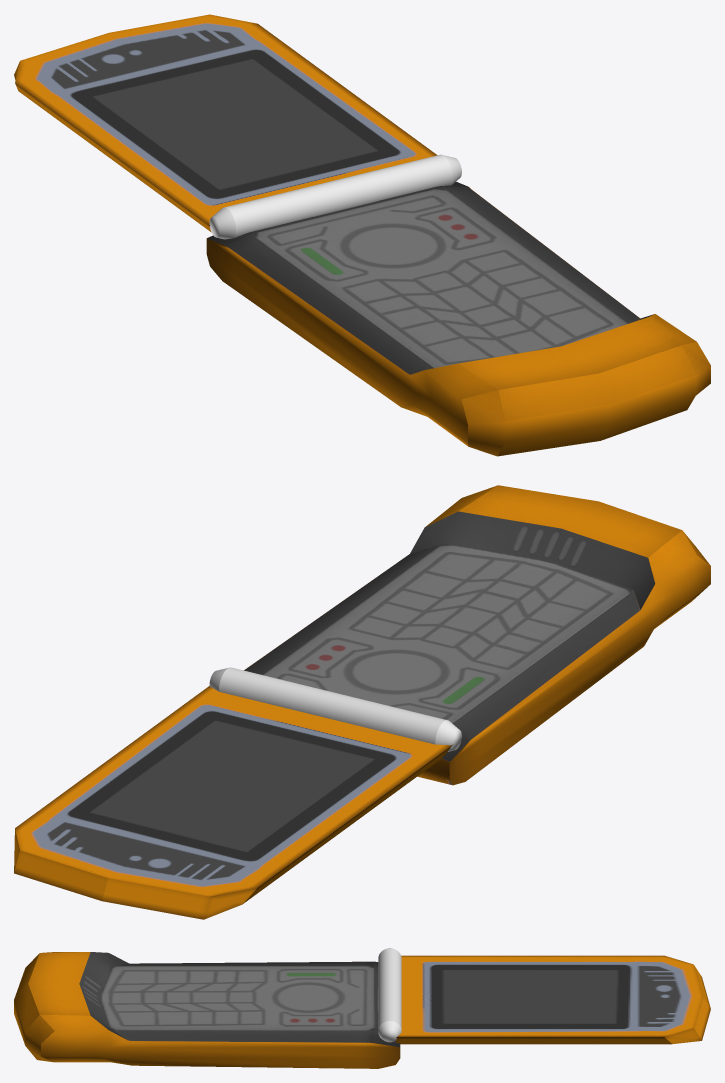
The model's file is phone 1.fbx.
3 views of the same model, one above another, from view 1: azimuth 30°, elevation 25°; view 2: azimuth 150°, elevation 25°; view 3: azimuth 270°, elevation 25° (orthographic). The views are drawn at different scales.
Parts seen in each view (by area): view 1: Cube.055, Cube.056, Cylinder.025; view 2: Cube.055, Cube.056, Cylinder.025; view 3: Cube.055, Cube.056, Cylinder.025.
Part boxes in pixels (x1=…): Cube.055: x1=206, y1=181, x2=710, y2=456; Cube.056: x1=14, y1=14, x2=437, y2=232; Cylinder.025: x1=209, y1=154, x2=461, y2=239; Cube.055: x1=244, y1=485, x2=710, y2=785; Cube.056: x1=14, y1=686, x2=452, y2=919; Cylinder.025: x1=209, y1=667, x2=461, y2=751; Cube.055: x1=14, y1=952, x2=400, y2=1068; Cube.056: x1=396, y1=955, x2=710, y2=1044; Cylinder.025: x1=378, y1=948, x2=401, y2=1042.
Bounding box in the file's own units: 23.01 × 5.98 × 83.04.
Materials: 3 (2 with a texture image).
